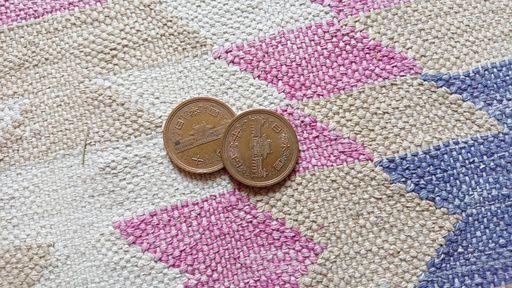10yen: (164, 98, 241, 174), (222, 110, 298, 186)
